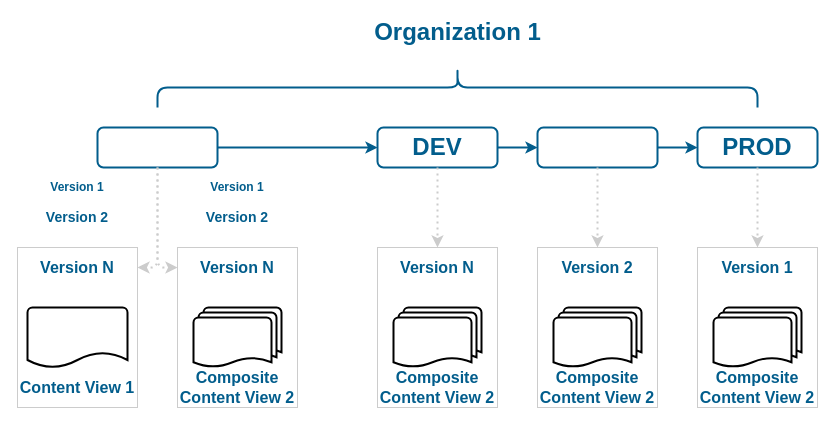
Some shapes in this 836 by 425 pixel diagram are drawn without their labels. The centre of each missing label's shape, as x and y in pixels:
Library: pixel 157 147
QE: pixel 597 147
